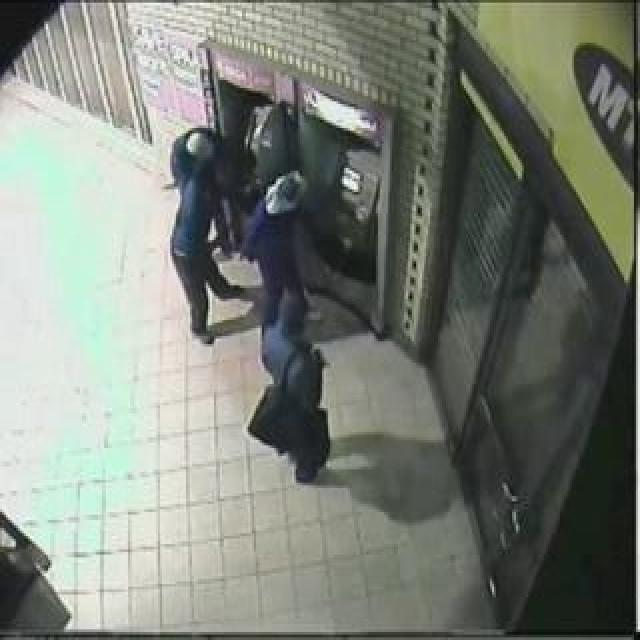thief: (177, 115, 327, 376)
